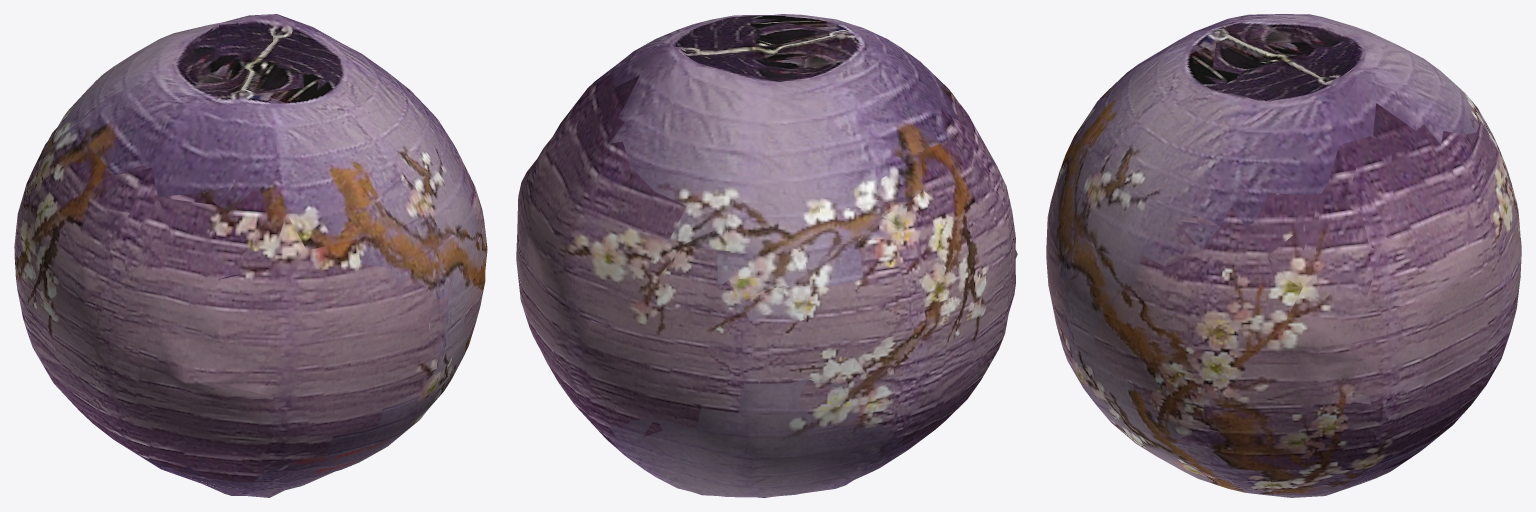
The model's file is AT1 Felix Bobbi Plum2.glb.
3 views of the same model, side by side, from view 1: azimuth 30°, elevation 25°; view 2: azimuth 150°, elevation 25°; view 3: azimuth 270°, elevation 25° (orthographic). The views are drawn at different scales.
Bounding box in the file's own units: 1000 × 991 × 980.
1 material, 1 textured.
